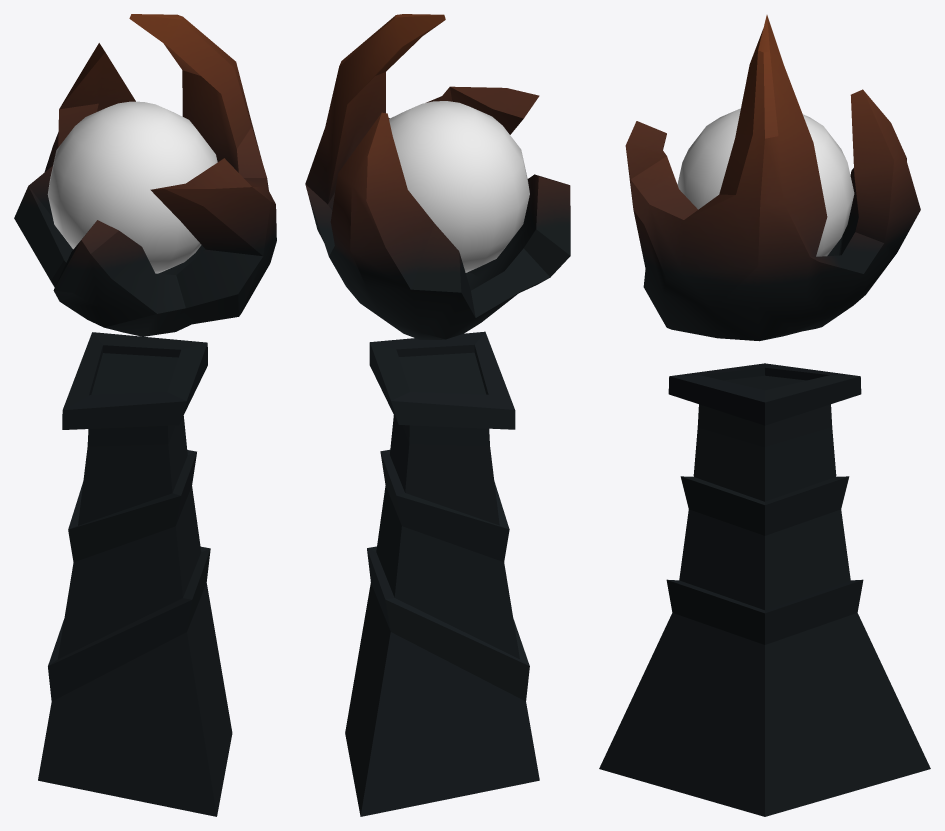
The model's file is Turret5.fbx.
3 renders of one model, left to right at view 1: azimuth 30°, elevation 25°; view 2: azimuth 150°, elevation 25°; view 3: azimuth 270°, elevation 25°, orthographic.
Visible parts, largest first — view 1: Cube.001, Sphere.001, Sphere; view 2: Cube.001, Sphere.001, Sphere; view 3: Cube.001, Sphere.001, Sphere.
Part boxes in pixels (x1,y1,x2,y2): Cube.001: [38, 332, 232, 816]; Sphere.001: [14, 14, 276, 336]; Sphere: [47, 101, 217, 273]; Cube.001: [345, 331, 539, 816]; Sphere.001: [305, 14, 570, 339]; Sphere: [389, 101, 529, 272]; Cube.001: [599, 363, 930, 816]; Sphere.001: [625, 15, 920, 341]; Sphere: [677, 108, 854, 256].
Size of the model in its own units: 181 by 557 by 222.
